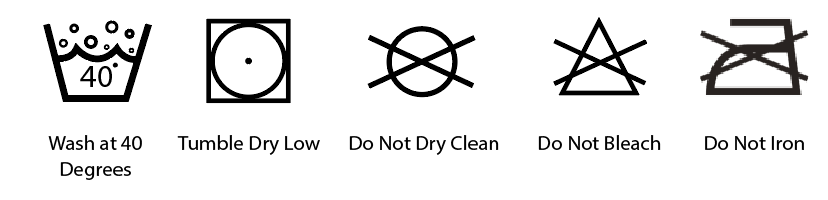do_not_bleach: (555, 19, 644, 97)
do_not_dry_clean: (369, 26, 472, 97)
do_not_iron: (698, 19, 809, 95)
